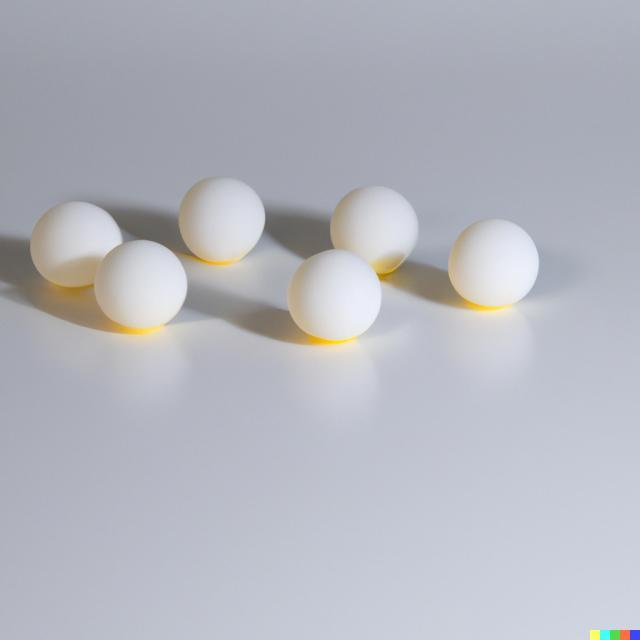white: (287, 248, 383, 343), (448, 216, 539, 310), (95, 240, 188, 330), (328, 183, 419, 274), (30, 202, 123, 288), (180, 176, 266, 264)
